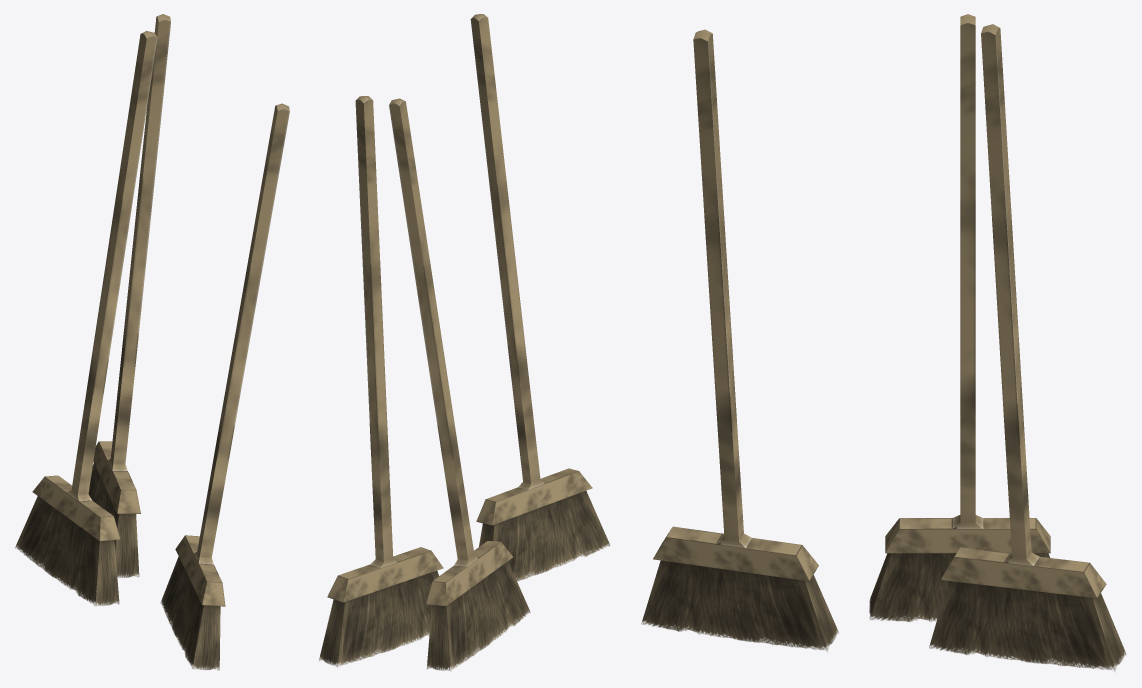
File: balais.glb
3 views of the same model, side by side, from view 1: azimuth 30°, elevation 25°; view 2: azimuth 150°, elevation 25°; view 3: azimuth 270°, elevation 25° (orthographic). The views are drawn at different scales.
Parts seen in each view (by area): view 1: balais; view 2: balais; view 3: balais.
Boxes of the visible parts, x1,y1,x2,y2 form: balais: (15, 14, 289, 670); balais: (319, 14, 610, 670); balais: (641, 14, 1126, 671).
Size of the model in its own units: 0.3257 by 1.31 by 0.8838.
Materials: 1 (1 with a texture image).
